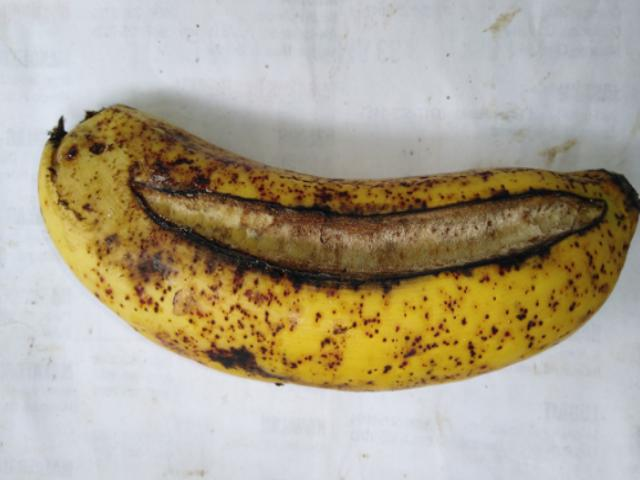rotten: (120, 108, 626, 345)
